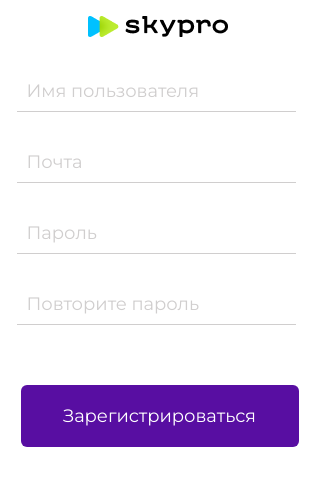
Scenario: Signup component › should display error when email field does not include @
Type "Ann" into the field with placeholder "Имя пользователя".
click(156, 91); type("Ann")  # box [16,70,296,112]
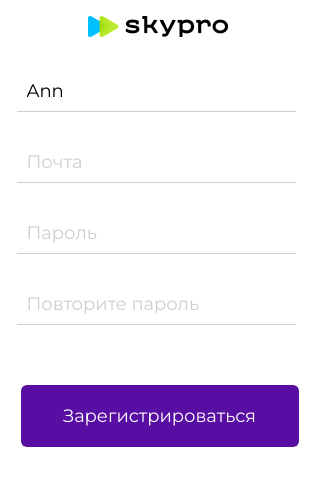
Type "test" into the field with placeholder "Почта".
click(156, 162); type("test")  # box [16,142,296,182]
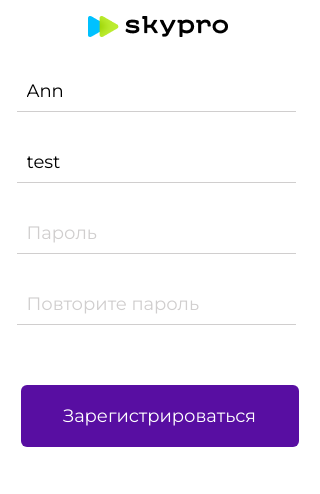
Click the link "Зарегистрироваться".
click(160, 416)  # box [63,404,256,426]
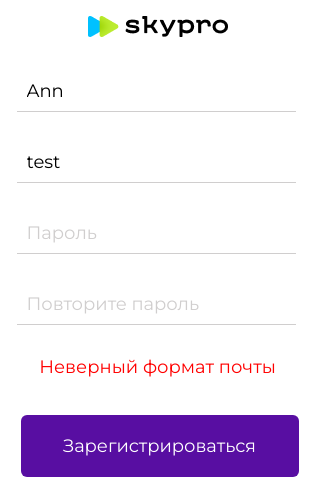
Now the text "Неверный формат почты" is shown, box [39,354,276,378]
